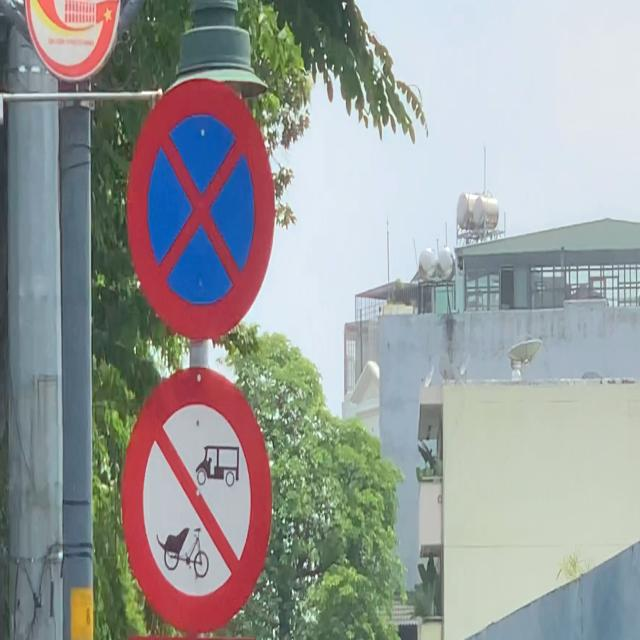Cam con lai: (123, 365, 273, 634)
Cam dung va do: (127, 80, 276, 340)
